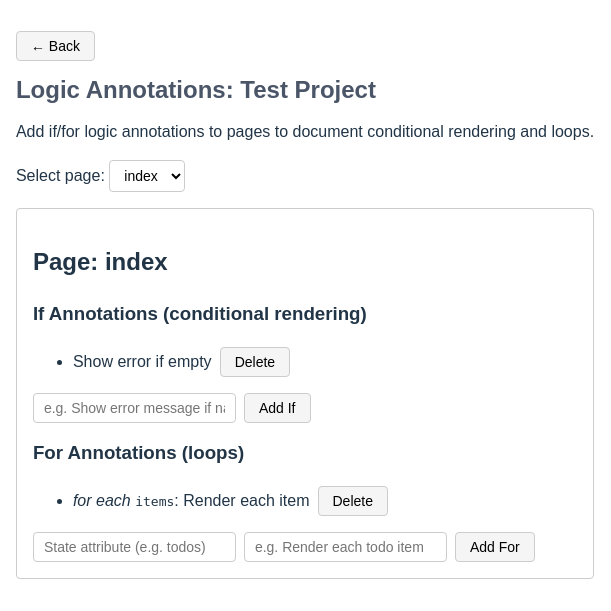
Test case: LogicAnnotations adds a new if annotation
Type "Check if user logged in" into the field with placeholder "e.g. Show error message if name is empty" at x=134, y=408, box [33,393,236,423]
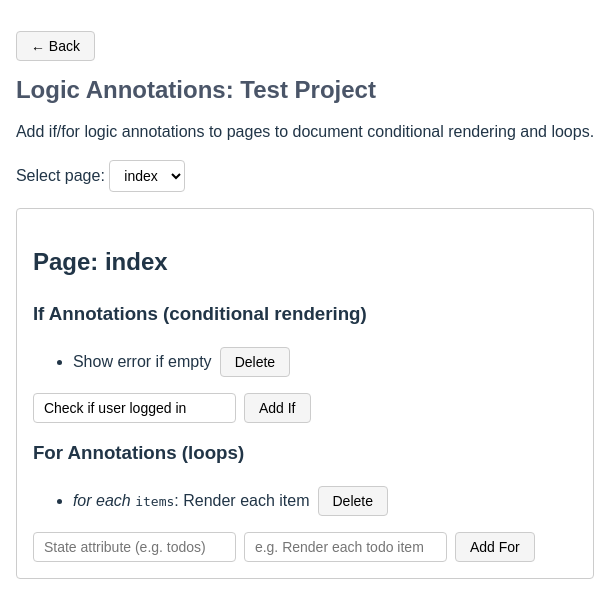
Click the button "Add If" at x=277, y=408, box [244,393,310,423]
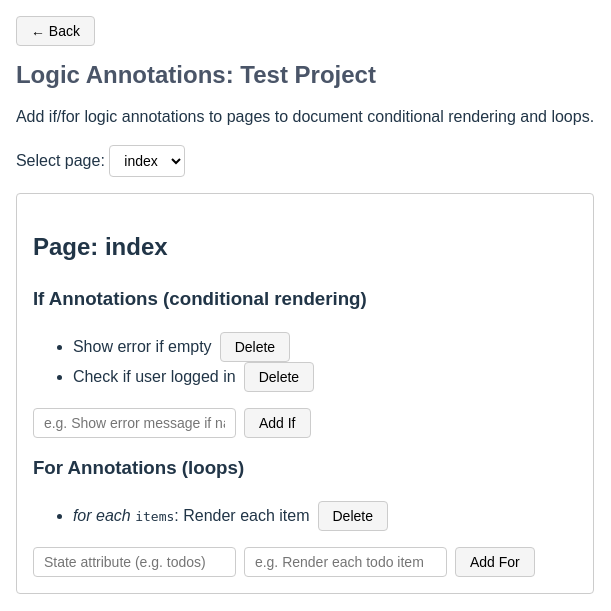
Expected: the list item "Check if user logged in" is shown, [73,368,236,385]
